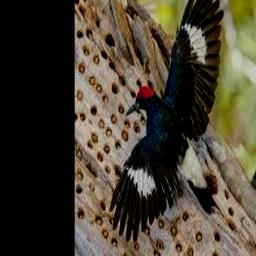Woodpecker: (109, 0, 224, 242)
